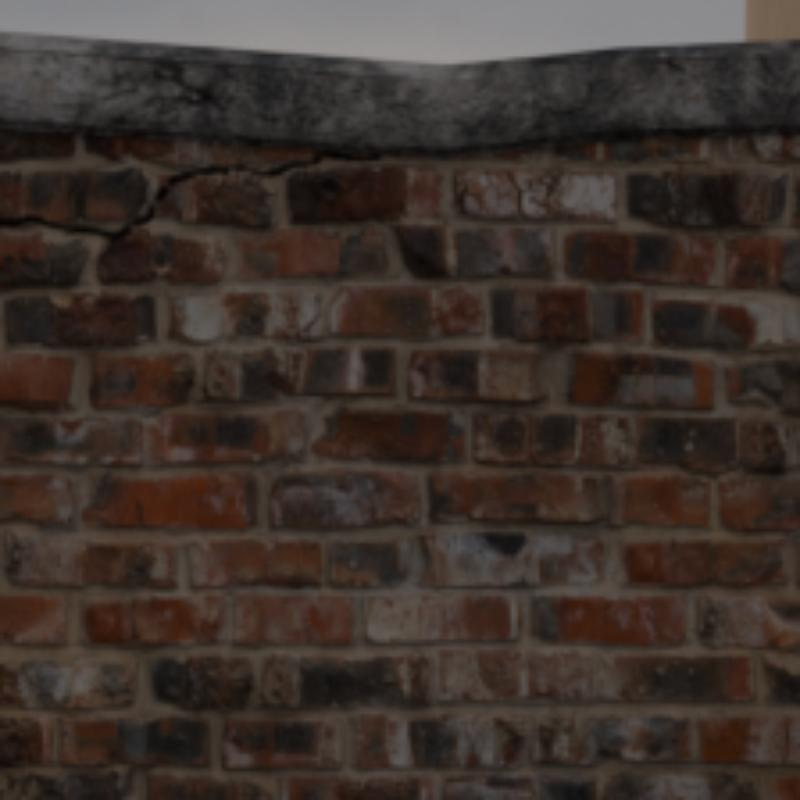pothole: (1, 170, 248, 242), (248, 152, 380, 177), (504, 168, 529, 221), (782, 718, 793, 764), (296, 314, 318, 336), (132, 604, 136, 639)
